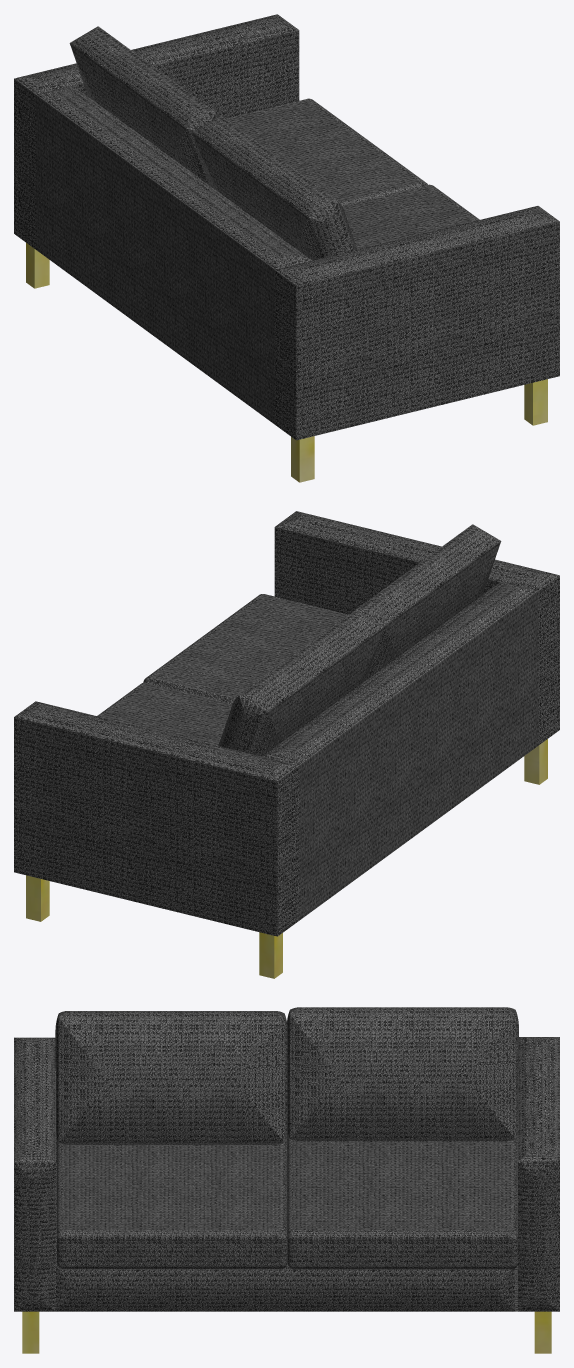
The model's file is karlstad_sofa_2_obj0_object.obj.
The picture shows the model from 3 angles, top to bottom: view 1: azimuth 30°, elevation 25°; view 2: azimuth 150°, elevation 25°; view 3: azimuth 270°, elevation 25°; orthographic projection. The views are drawn at different scales.
Parts seen in each view (by area): view 1: Mesh2 Group2 Model, Mesh4 Group4 Group3 Model, Mesh1 Group1 Model, Mesh11 back_cushion1 Model, Mesh10 seat_cushion2 Model, Mesh12 back_cushion2 Model, Mesh3 Group5 Group4 Group3 Model, Mesh9 seat_cushion1 Model, Mesh14 Model, Mesh13 Model, Mesh8 Group8 Model; view 2: Mesh1 Group1 Model, Mesh4 Group4 Group3 Model, Mesh2 Group2 Model, Mesh12 back_cushion2 Model, Mesh9 seat_cushion1 Model, Mesh11 back_cushion1 Model, Mesh3 Group5 Group4 Group3 Model, Mesh10 seat_cushion2 Model, Mesh8 Group8 Model, Mesh7 Group7 Model, Mesh14 Model; view 3: Mesh12 back_cushion2 Model, Mesh11 back_cushion1 Model, Mesh10 seat_cushion2 Model, Mesh9 seat_cushion1 Model, Mesh6 Group6 Model, Mesh2 Group2 Model, Mesh1 Group1 Model, Mesh7 Group7 Model, Mesh13 Model.
Boxes of the visible parts, box(x1,y1,x2,y2) form: Mesh2 Group2 Model: box(274, 206, 559, 440); Mesh4 Group4 Group3 Model: box(35, 95, 312, 424); Mesh1 Group1 Model: box(14, 14, 299, 249); Mesh11 back_cushion1 Model: box(192, 115, 357, 260); Mesh10 seat_cushion2 Model: box(225, 98, 427, 205); Mesh12 back_cushion2 Model: box(69, 26, 218, 185); Mesh3 Group5 Group4 Group3 Model: box(36, 85, 311, 269); Mesh9 seat_cushion1 Model: box(342, 184, 479, 249); Mesh14 Model: box(291, 436, 314, 482); Mesh13 Model: box(524, 379, 547, 425); Mesh8 Group8 Model: box(26, 243, 49, 288); Mesh1 Group1 Model: box(14, 701, 299, 936); Mesh4 Group4 Group3 Model: box(299, 591, 538, 920); Mesh2 Group2 Model: box(274, 511, 559, 745); Mesh12 back_cushion2 Model: box(218, 610, 384, 756); Mesh9 seat_cushion1 Model: box(143, 594, 348, 703); Mesh11 back_cushion1 Model: box(354, 524, 501, 679); Mesh3 Group5 Group4 Group3 Model: box(262, 581, 537, 765); Mesh10 seat_cushion2 Model: box(97, 682, 232, 745); Mesh8 Group8 Model: box(259, 932, 282, 978); Mesh7 Group7 Model: box(26, 875, 49, 921); Mesh14 Model: box(524, 739, 547, 784); Mesh12 back_cushion2 Model: box(287, 1007, 518, 1141); Mesh11 back_cushion1 Model: box(55, 1011, 287, 1144); Mesh10 seat_cushion2 Model: box(287, 1130, 518, 1269); Mesh9 seat_cushion1 Model: box(56, 1133, 287, 1269); Mesh6 Group6 Model: box(56, 1159, 514, 1311); Mesh2 Group2 Model: box(14, 1037, 55, 1311); Mesh1 Group1 Model: box(518, 1037, 559, 1311); Mesh7 Group7 Model: box(534, 1311, 551, 1353); Mesh13 Model: box(22, 1311, 39, 1353).
Size of the model in its own units: 0.9376 by 0.8289 by 1.65.
